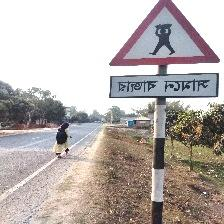Market-in-front: (107, 0, 221, 102)
